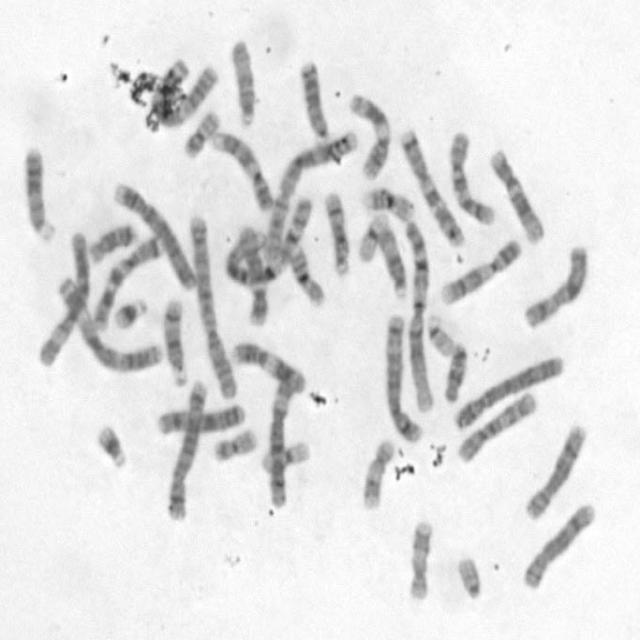A1: (225, 193, 313, 286), (403, 220, 435, 415)
A2: (262, 132, 358, 262), (188, 213, 240, 403)
A3: (59, 273, 166, 374), (151, 59, 217, 132)
B4: (112, 180, 198, 291), (453, 352, 565, 433)
B5: (167, 376, 207, 520), (382, 310, 424, 444)
C10: (456, 389, 537, 465), (450, 128, 498, 226)
C11: (230, 338, 308, 397), (348, 90, 392, 182)
C12: (488, 148, 546, 247), (236, 225, 269, 326)
C6: (38, 229, 91, 367), (268, 378, 295, 510)
C7: (401, 128, 469, 248), (93, 235, 164, 333)
C8: (520, 501, 596, 591), (524, 419, 591, 520)
C9: (439, 237, 521, 307), (211, 128, 273, 212)
D13: (292, 60, 332, 142), (21, 145, 54, 241)
D14: (321, 190, 352, 278), (162, 298, 188, 391)
D15: (375, 219, 409, 300), (228, 37, 256, 132)
E16: (288, 244, 328, 310), (365, 187, 416, 224)
E17: (360, 435, 395, 514), (406, 520, 436, 601)
E18: (89, 221, 135, 267), (442, 342, 470, 403)
F19: (355, 209, 390, 265), (258, 439, 311, 475)
F20: (183, 111, 219, 161), (212, 428, 258, 464)
G21: (96, 422, 128, 470), (112, 296, 149, 332)
G22: (424, 308, 454, 359), (454, 553, 482, 603)
X: (522, 241, 591, 328), (156, 401, 248, 437)
